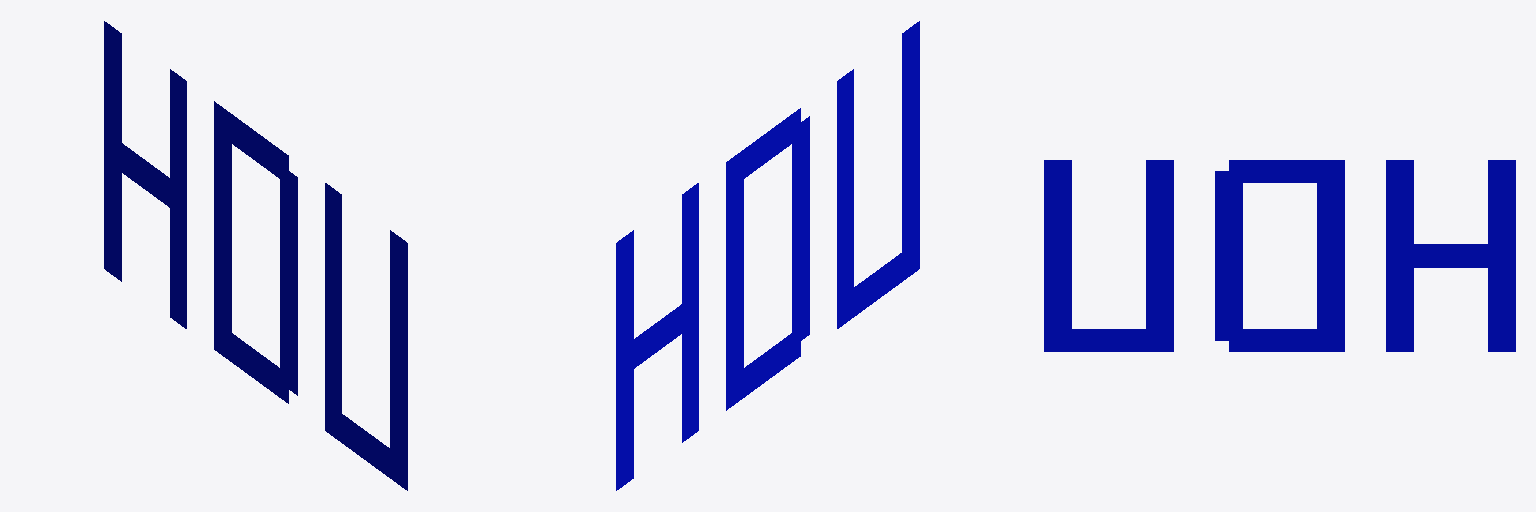
URDF robot description (hdu_sticker_0144x0065):
<?xml version="1.0"?>
<robot name="hdu_sticker_0144x0065">
  <link name="hdu_sticker_visual_link">
    <visual name="hdu_sticker_visual">
      <origin xyz="0 0 0" rpy="0 0 0"/>
      <geometry><mesh filename="hdu_sticker_0144x0065.obj" scale="1 1 1"/></geometry>
      <material name="hdu_blue_sticker"><color rgba="0.02 0.08 0.95 1.0"/></material>
    </visual>
    <inertial>
      <origin xyz="0 0 0" rpy="0 0 0"/>
      <mass value="0.0001"/>
      <inertia ixx="1e-9" ixy="0" ixz="0" iyy="1e-9" iyz="0" izz="1e-9"/>
    </inertial>
  </link>
</robot>

--- Render facts (derived) ---
3 views of the same robot in one strip: view 1: azimuth 30°, elevation 25°; view 2: azimuth 150°, elevation 25°; view 3: azimuth 270°, elevation 25° (orthographic).
Model hdu_sticker_0144x0065 with 1 links and 0 joints (none), rooted at hdu_sticker_visual_link, posed every joint at zero.
Visible links, largest first — view 1: hdu_sticker_visual_link; view 2: hdu_sticker_visual_link; view 3: hdu_sticker_visual_link.
Boxes of the visible links, x1,y1,x2,y2 form: hdu_sticker_visual_link: (104, 21, 407, 490); hdu_sticker_visual_link: (616, 21, 919, 490); hdu_sticker_visual_link: (1044, 160, 1515, 351).
Bounding box of the posed robot: 0 × 0.144 × 0.065 m (x, y, z).
1 mesh visuals loaded from 1 distinct referenced files (1 OBJ).
